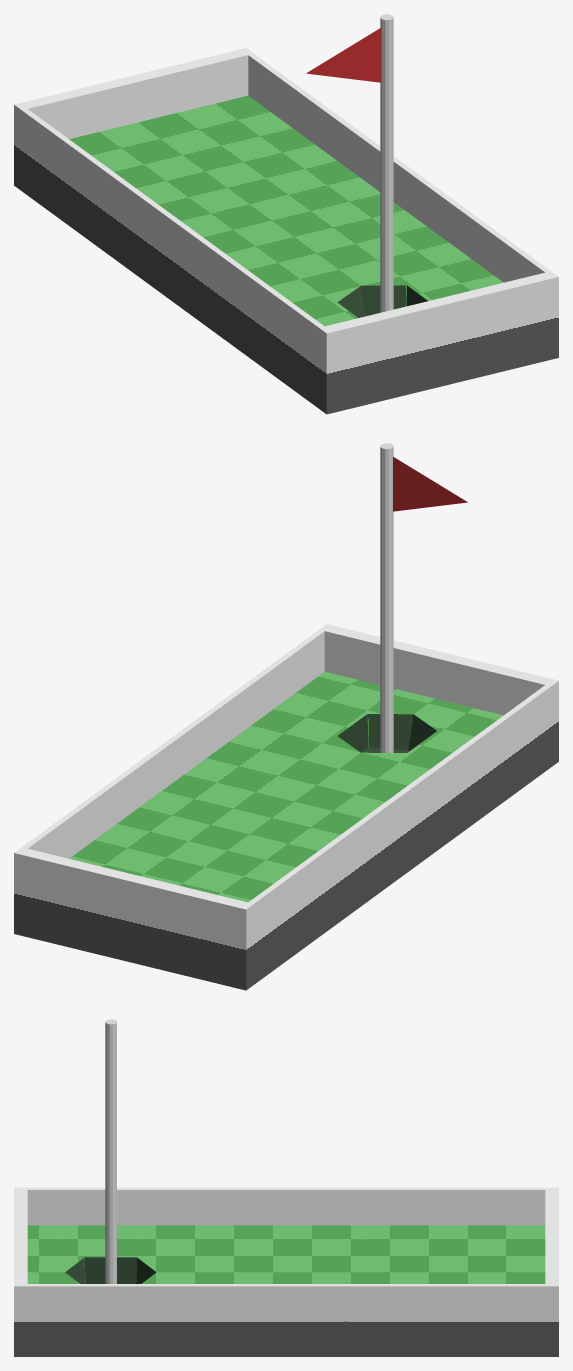
Rendered from golfterrain.gltf.
3 views of the same model, one above another, from view 1: azimuth 30°, elevation 25°; view 2: azimuth 150°, elevation 25°; view 3: azimuth 270°, elevation 25° (orthographic). The views are drawn at different scales.
Parts seen in each view (by area): view 1: cuboid, cylinder, pyramid; view 2: cuboid, cylinder, pyramid; view 3: cuboid, cylinder.
Boxes of the visible parts, x1,y1,x2,y2 form: cuboid: (14,48,558,414); cylinder: (380,14,393,312); pyramid: (306,28,381,82); cuboid: (14,624,558,990); cylinder: (380,443,393,752); pyramid: (393,456,467,511); cuboid: (14,1187,558,1356); cylinder: (105,1019,116,1283).
Bounding box in the file's own units: 0.375 × 0.5063 × 0.875.
3 materials, 3 textured.
